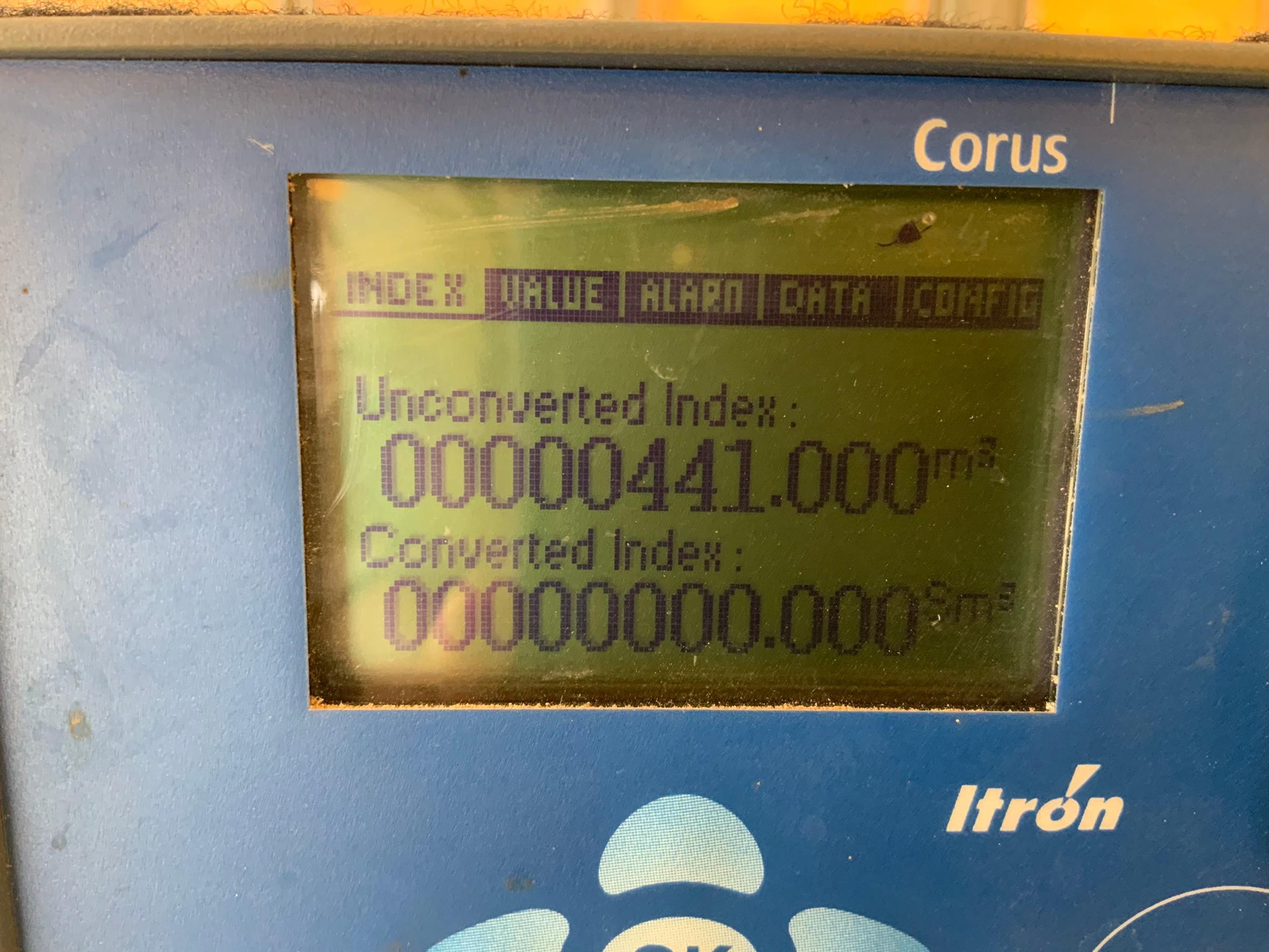digital_screen: (290, 176, 1103, 711)
